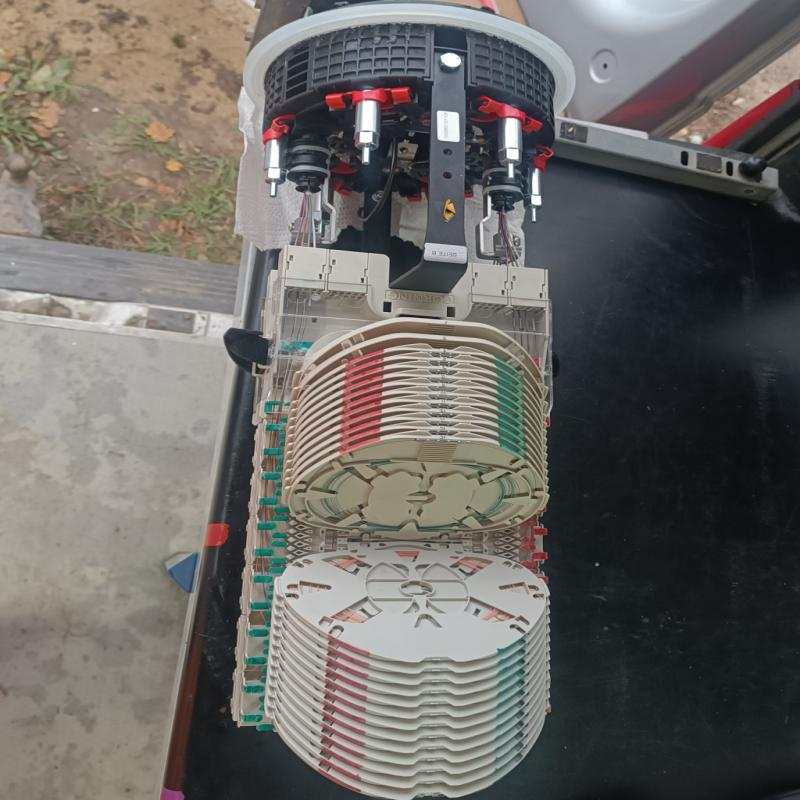NT-Muffen: (219, 1, 578, 800)
